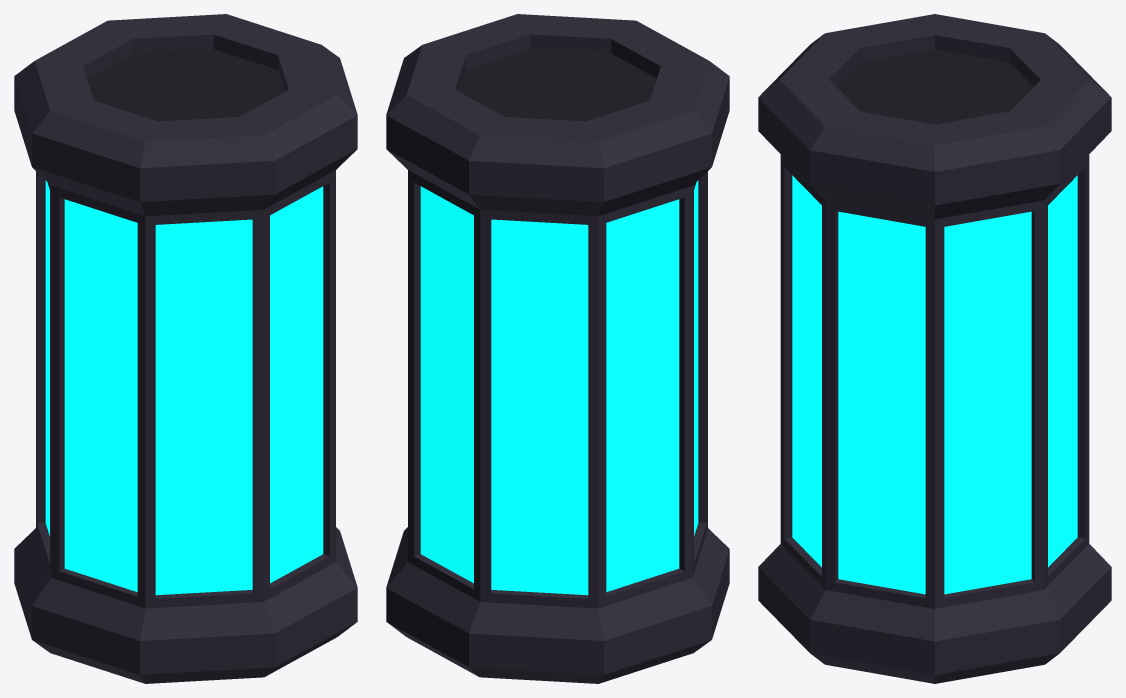
File: SM_Cellule.fbx
The picture shows the model from 3 angles, left to right: view 1: azimuth 30°, elevation 25°; view 2: azimuth 150°, elevation 25°; view 3: azimuth 270°, elevation 25°; orthographic projection.
Visible parts, largest first — view 1: SM_Cellule; view 2: SM_Cellule; view 3: SM_Cellule.
Part boxes in pixels (x1=…): SM_Cellule: x1=14, y1=14, x2=357, y2=683; SM_Cellule: x1=386, y1=14, x2=729, y2=683; SM_Cellule: x1=758, y1=14, x2=1111, y2=683.
Size of the model in its own units: 29.72 by 49.96 by 29.72.
